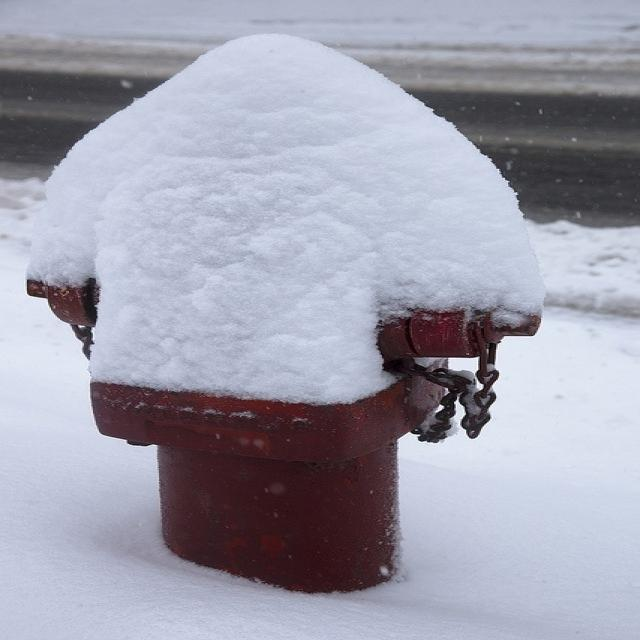fire_hydrant: (11, 43, 600, 616)
